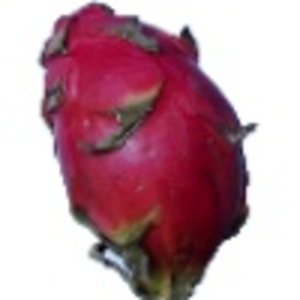pitaia: (37, 1, 257, 300)
